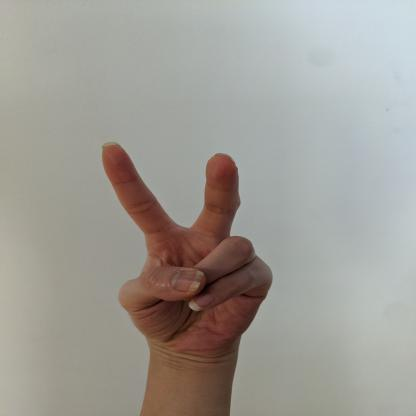V: (96, 136, 278, 360)
